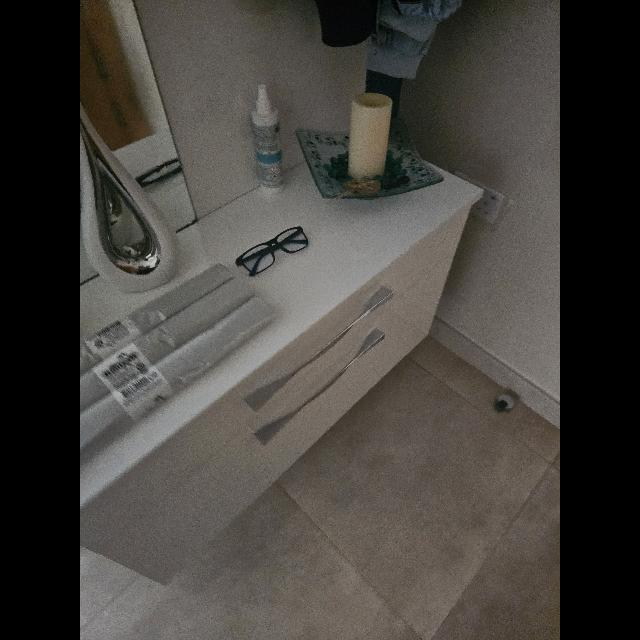glasses: (236, 226, 308, 276)
